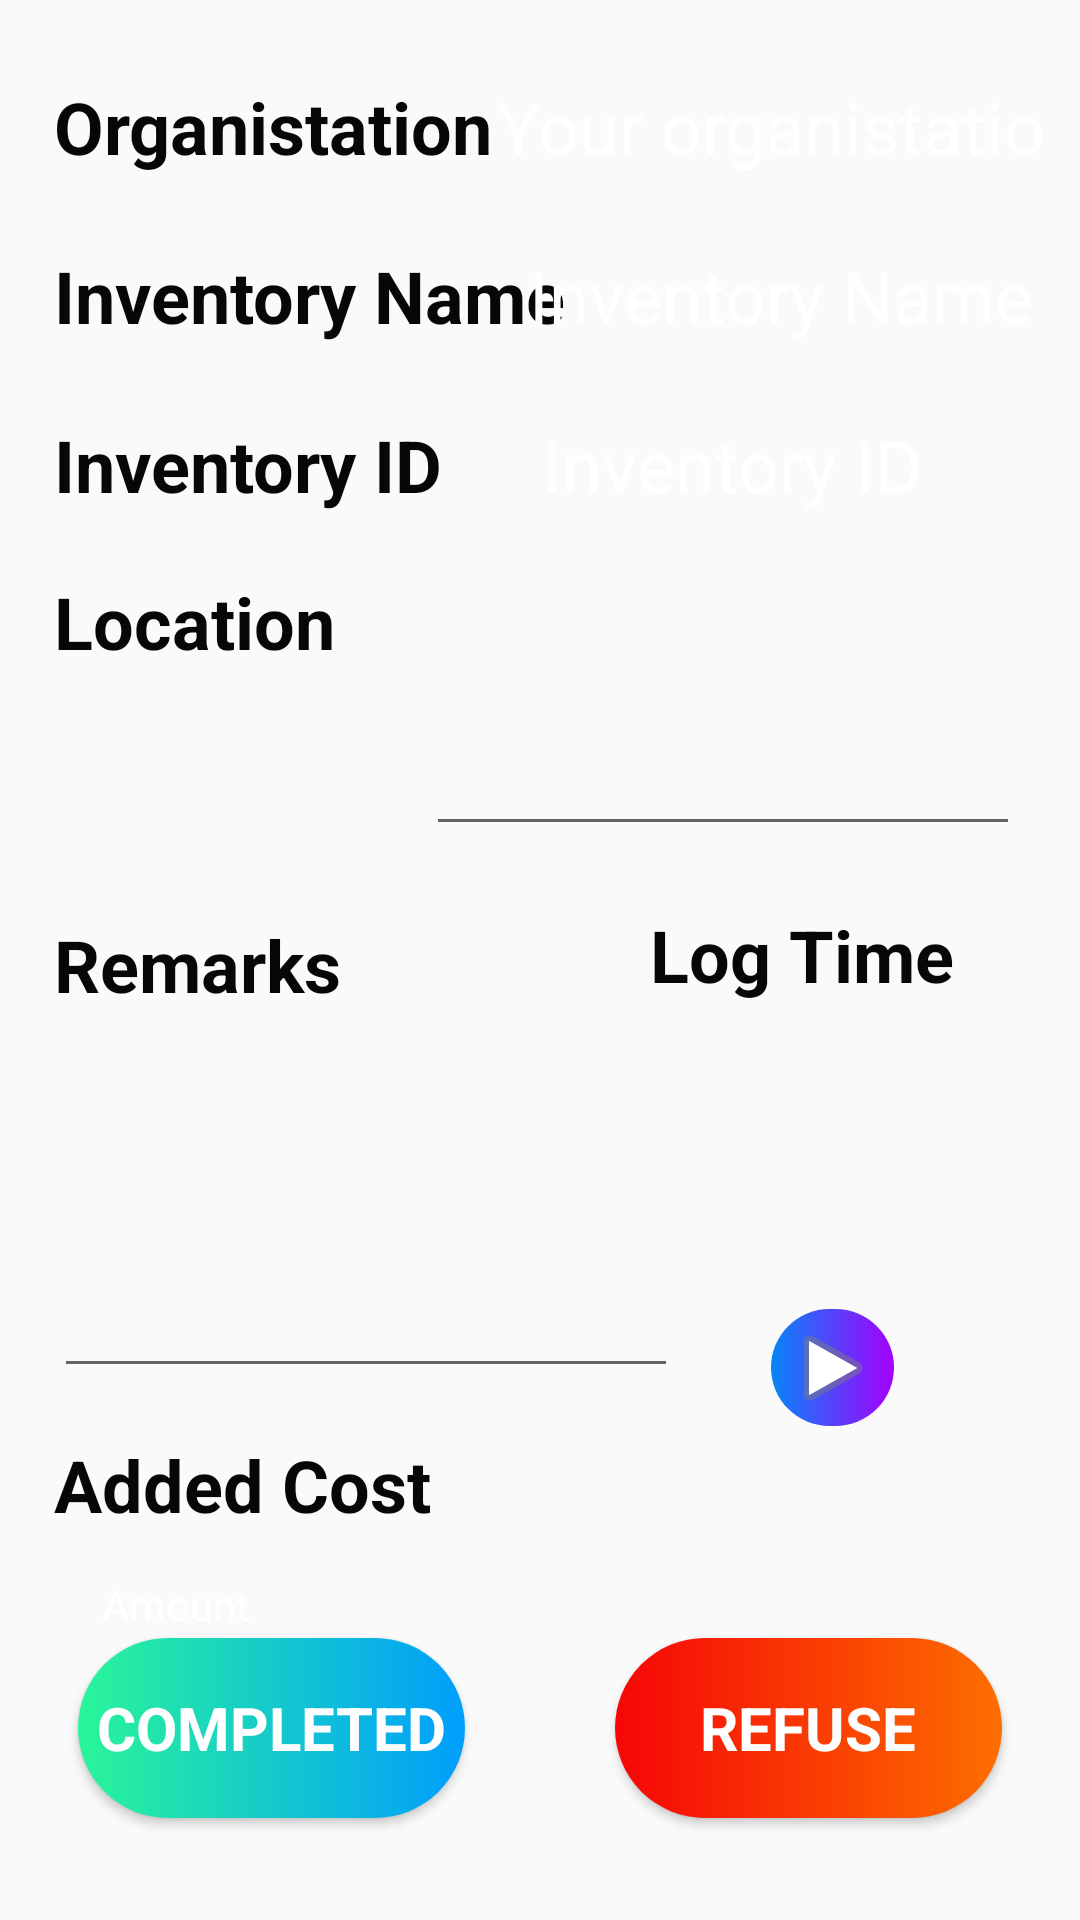

Icons on this 1080px x 1920px Android screen, each with the point to tap as [x,y]:
play: [832,1367]
